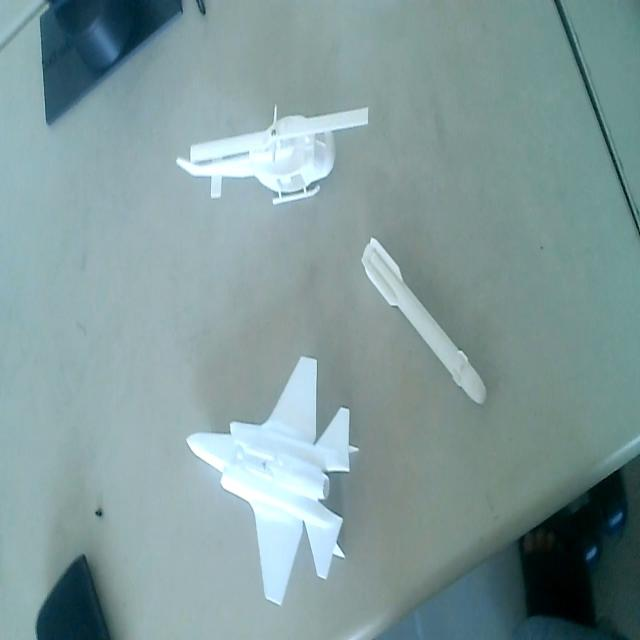Helicopter: (173, 101, 372, 211)
Jet: (182, 355, 362, 611)
Rocket: (360, 229, 488, 409)
